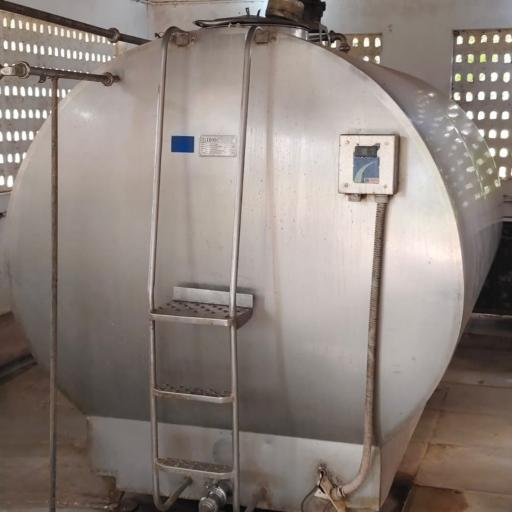silo: (1, 11, 504, 499)
